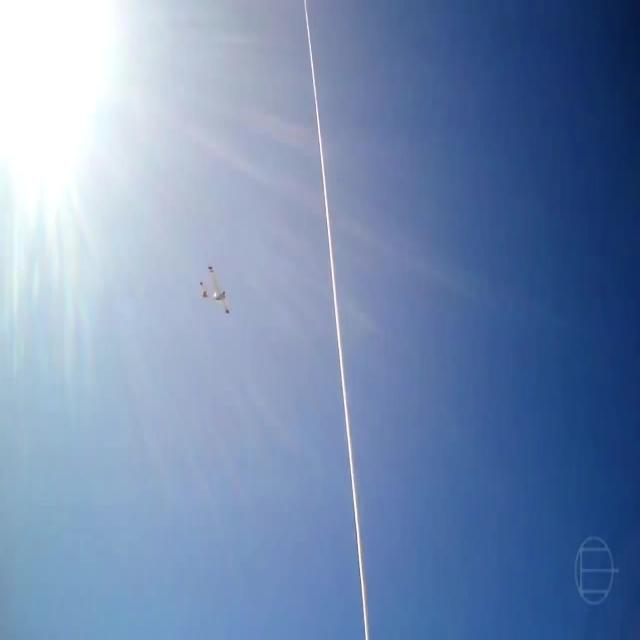iha: (198, 261, 231, 315)
